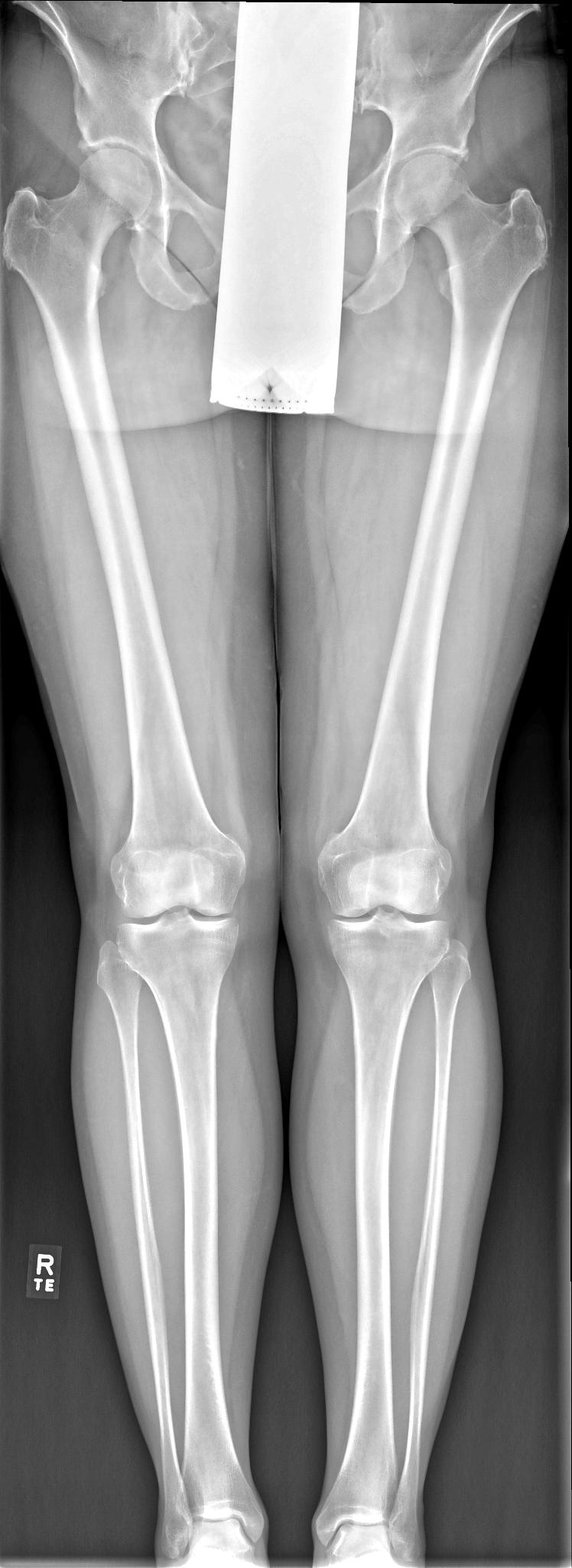Leg Fibula: (97, 942, 192, 1562), (390, 942, 470, 1563)
Leg Tibia: (117, 912, 263, 1542), (316, 911, 449, 1550)
femur: (5, 147, 245, 918), (319, 149, 547, 918)
